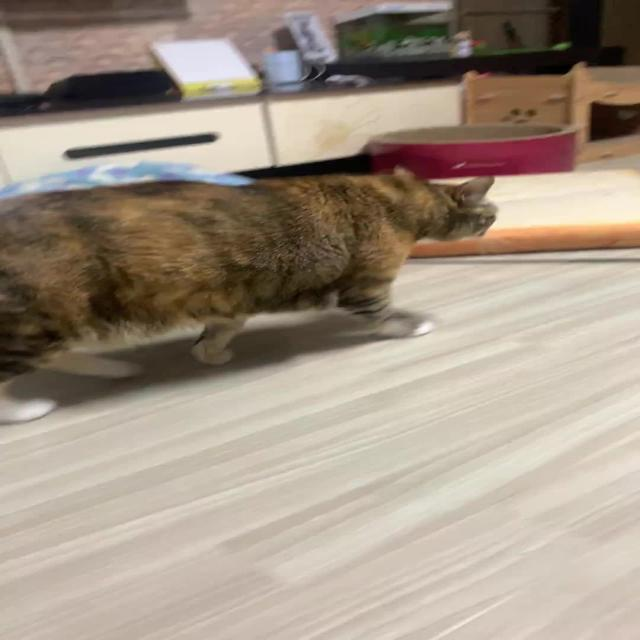cat: (0, 162, 529, 424)
